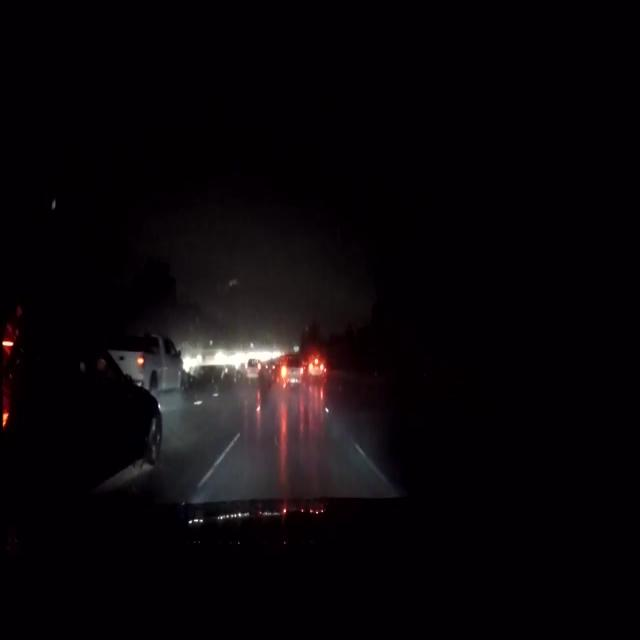Car: (3, 321, 155, 490), (122, 334, 179, 398), (273, 351, 298, 388), (300, 352, 323, 387), (244, 358, 264, 382)
